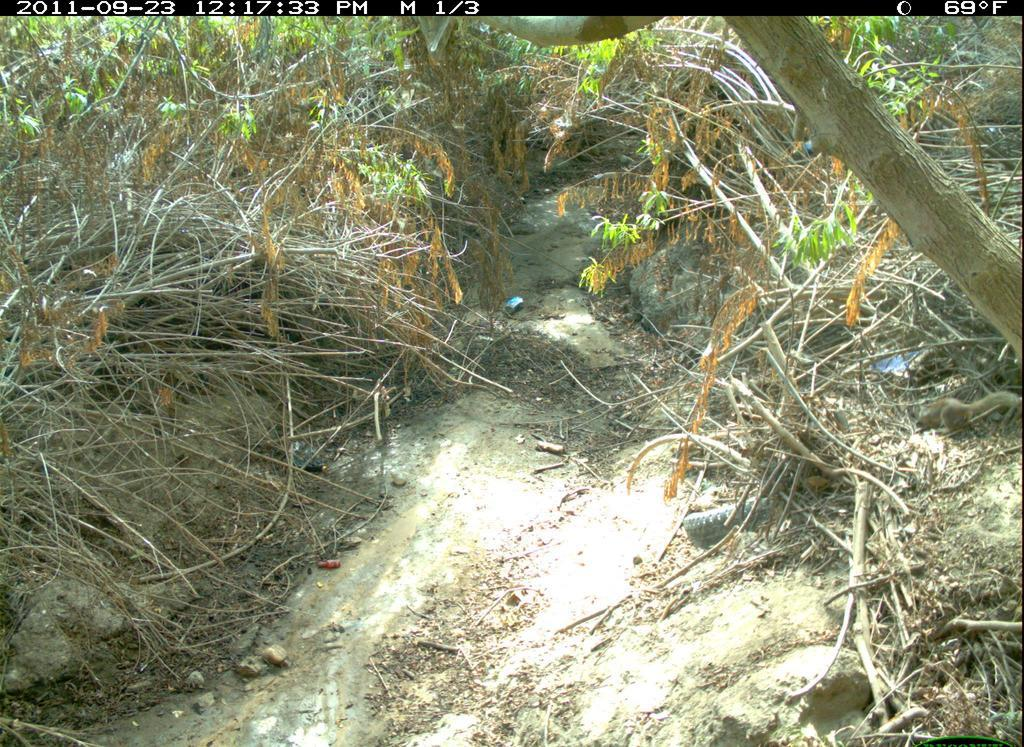squirrel: (917, 380, 1021, 429)
